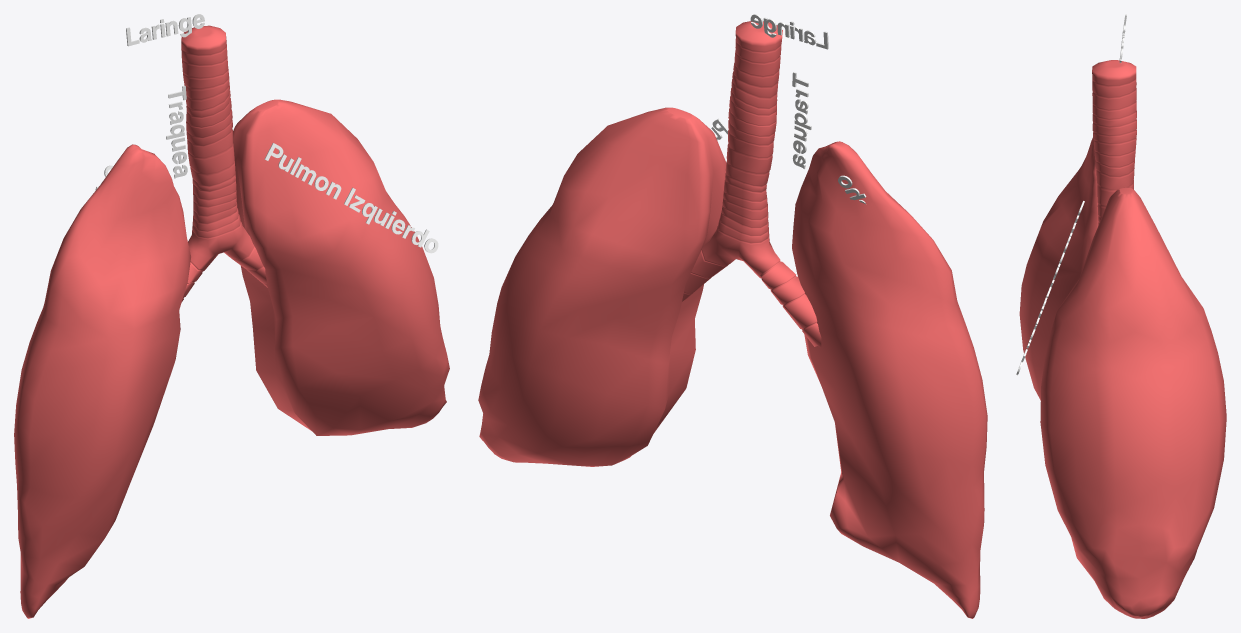
The model's file is lungs.glb.
3 views of the same model, side by side, from view 1: azimuth 30°, elevation 25°; view 2: azimuth 150°, elevation 25°; view 3: azimuth 270°, elevation 25° (orthographic). The views are drawn at different scales.
Parts seen in each view (by area): view 1: Object008, LungL, Traquea, Laringe; view 2: Object008, Traquea, Laringe; view 3: Object008, LungL.
Part boxes in pixels (bbox=[...]): Object008: bbox=[14, 25, 449, 618]; LungL: bbox=[264, 143, 438, 253]; Traquea: bbox=[166, 85, 187, 178]; Laringe: bbox=[126, 14, 204, 46]; Object008: bbox=[478, 21, 987, 618]; Traquea: bbox=[792, 72, 811, 168]; Laringe: bbox=[750, 14, 828, 49]; Object008: bbox=[1019, 60, 1226, 618]; LungL: bbox=[1016, 201, 1084, 375].
Size of the model in its own units: 4.34 by 5.08 by 1.8.
